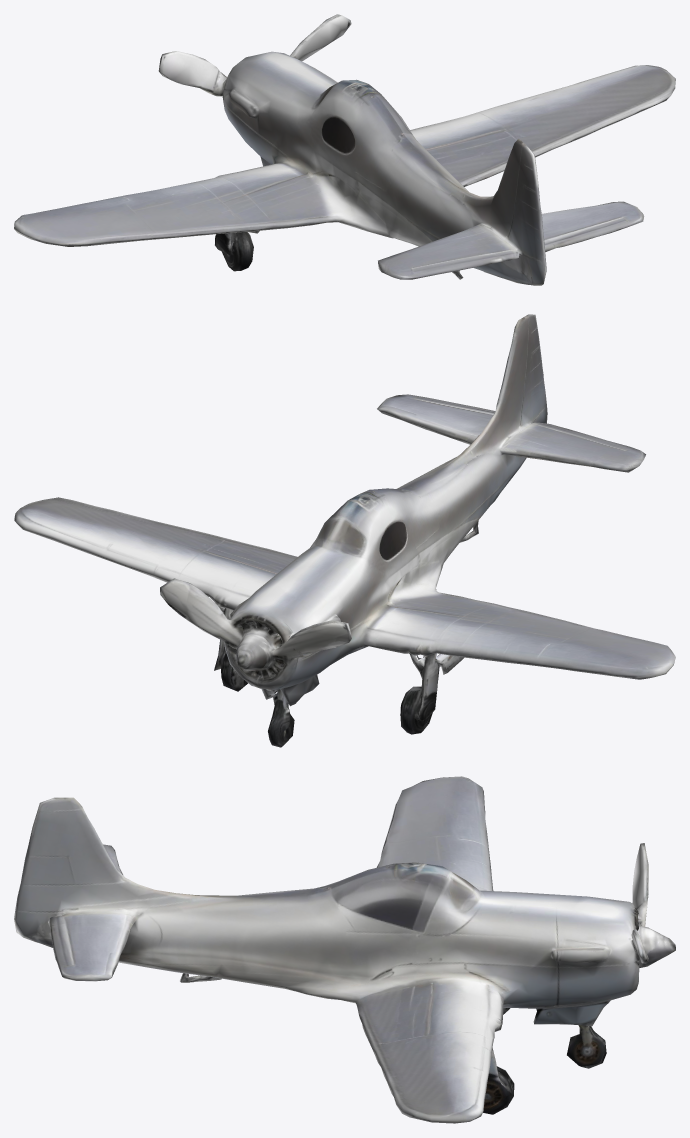
3 renders of one model, top to bottom at view 1: azimuth 30°, elevation 25°; view 2: azimuth 150°, elevation 25°; view 3: azimuth 270°, elevation 25°, orthographic. The views are drawn at different scales.
Visible parts, largest first — view 1: Mesh1.0; view 2: Mesh1.0; view 3: Mesh1.0.
Part boxes in pixels (x1,y1,x2,y2): Mesh1.0: (14,14,675,285); Mesh1.0: (14,314,675,747); Mesh1.0: (14,776,675,1123).
Size of the model in its own units: 200 by 74.14 by 164.
Materials: 1 (1 with a texture image).
